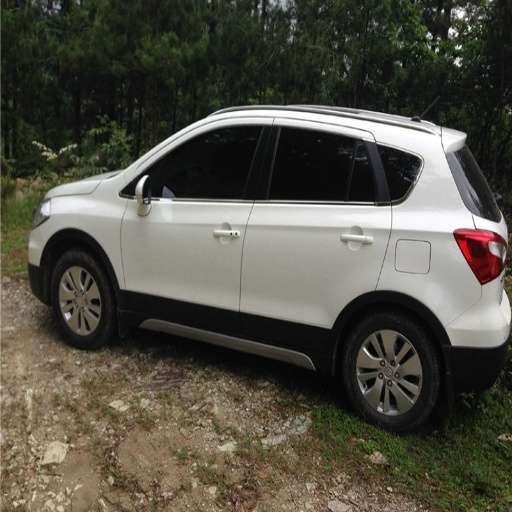back_bumper: (435, 280, 511, 392)
back_left_door: (242, 116, 390, 362)
front_left_door: (121, 118, 273, 338)
